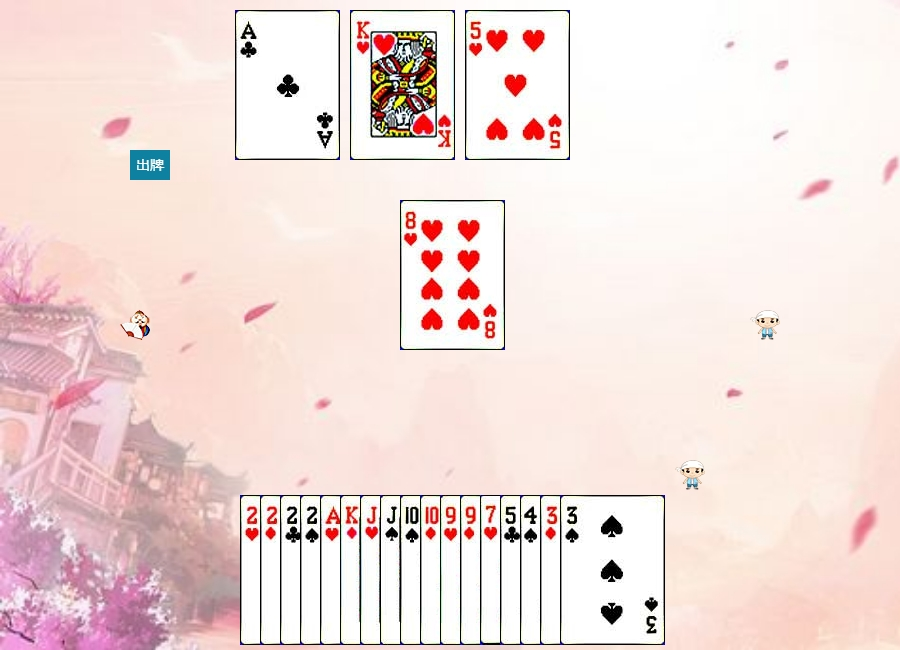10~1: (420, 495, 525, 645)
10~4: (400, 495, 505, 645)
11~3: (360, 495, 465, 645)
11~4: (380, 495, 485, 645)
13~1: (340, 495, 445, 645)
13~3: (350, 10, 455, 160)
14~2: (235, 10, 340, 160)
14~3: (320, 495, 425, 645)
15~1: (260, 495, 365, 645)
15~2: (280, 495, 385, 645)
15~3: (240, 495, 345, 645)
15~4: (300, 495, 405, 645)
3~1: (540, 495, 645, 645)
3~4: (560, 495, 665, 645)
4~4: (520, 495, 625, 645)
5~2: (500, 495, 605, 645)
5~3: (465, 10, 570, 160)
7~3: (480, 495, 585, 645)
8~3: (400, 200, 505, 350)
9~1: (460, 495, 565, 645)
9~3: (440, 495, 545, 645)
